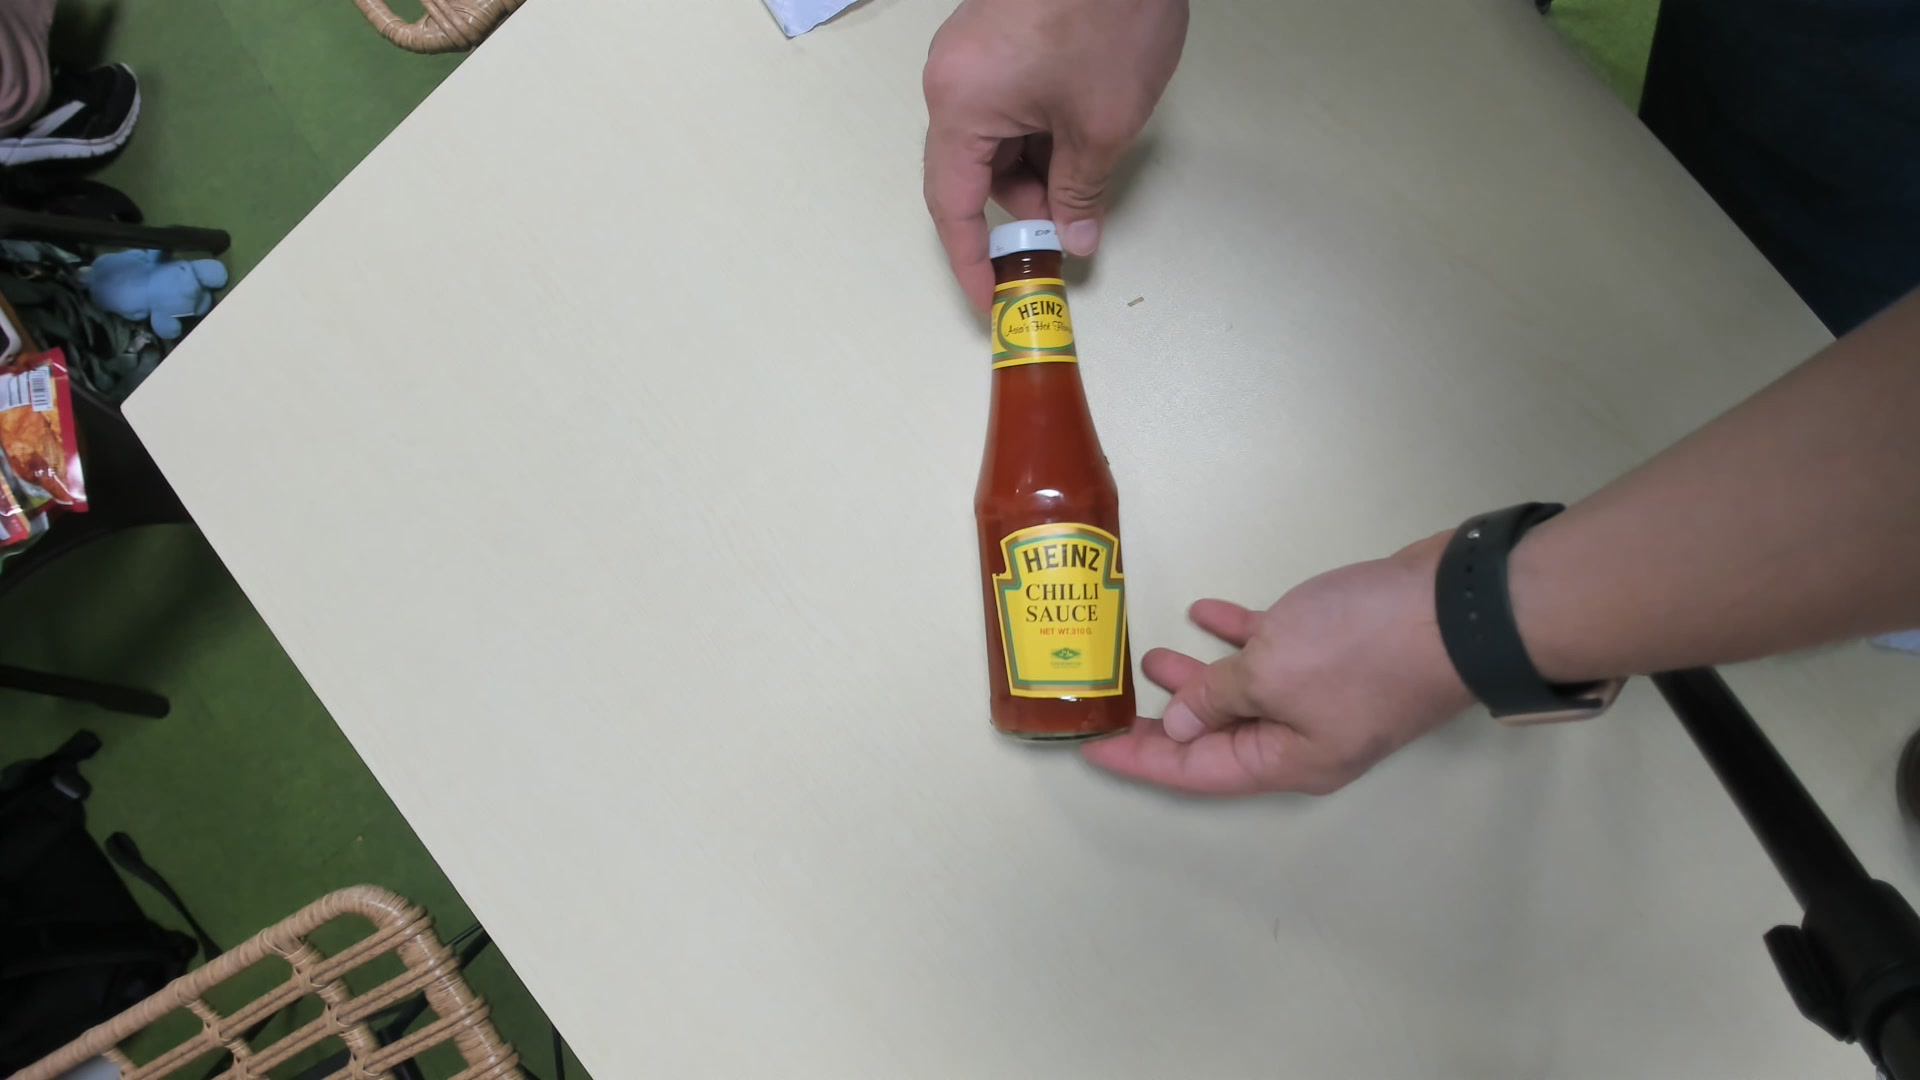KetchupChillSauce_300-399g_Halal_NonHealthy: (972, 216, 1141, 738)
